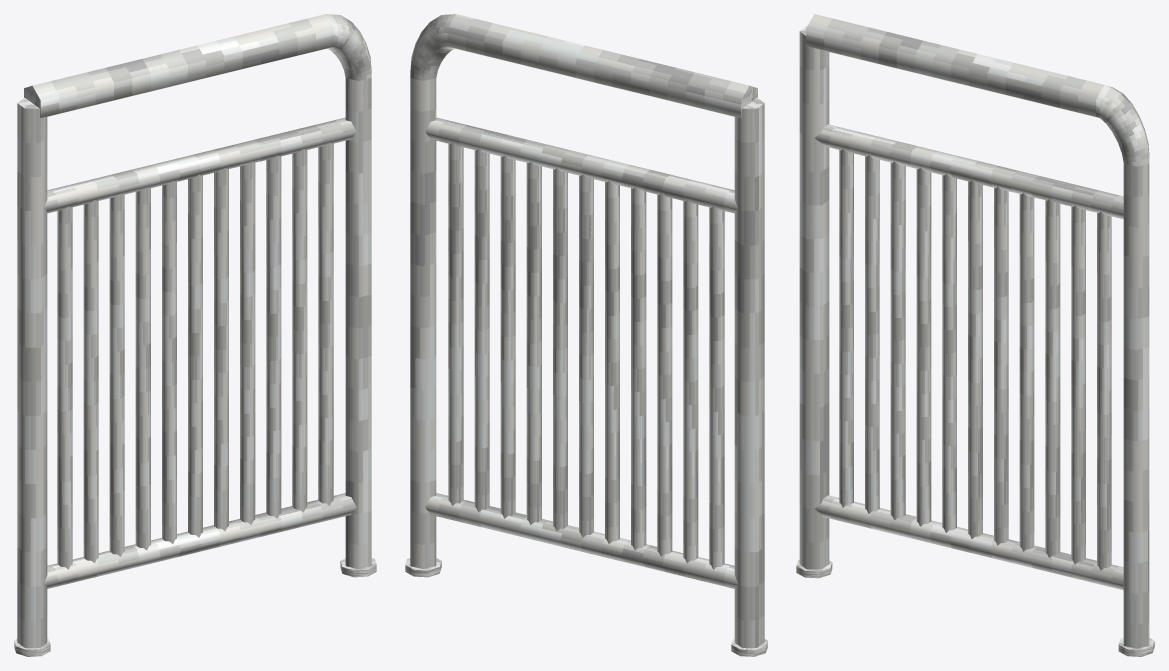
Rendered from endr.obj.
3 renders of one model, left to right at view 1: azimuth 30°, elevation 25°; view 2: azimuth 150°, elevation 25°; view 3: azimuth 330°, elevation 25°, orthographic.
Visible parts, largest first — view 1: 贝塞尔曲线.002, 贝塞尔曲线.036, 贝塞尔曲线.034, 贝塞尔曲线.033, 贝塞尔曲线.035, 贝塞尔曲线.025, 贝塞尔曲线.026, 贝塞尔曲线.023, 贝塞尔曲线.027, 贝塞尔曲线.028, 贝塞尔曲线.024, 贝塞尔曲线.029 (+5 smaller); view 2: 贝塞尔曲线.002, 贝塞尔曲线.036, 贝塞尔曲线.034, 贝塞尔曲线.033, 贝塞尔曲线.035, 贝塞尔曲线.025, 贝塞尔曲线.026, 贝塞尔曲线.023, 贝塞尔曲线.027, 贝塞尔曲线.028, 贝塞尔曲线.024, 贝塞尔曲线.029 (+5 smaller); view 3: 贝塞尔曲线.002, 贝塞尔曲线.036, 贝塞尔曲线.034, 贝塞尔曲线.033, 贝塞尔曲线.035, 贝塞尔曲线.029, 贝塞尔曲线.028, 贝塞尔曲线.023, 贝塞尔曲线.022, 贝塞尔曲线.021, 贝塞尔曲线.027, 贝塞尔曲线.025 (+5 smaller).
Part boxes in pixels (<box>): 贝塞尔曲线.002: <box>17,98,47,647</box>; 贝塞尔曲线.036: <box>345,78,371,569</box>; 贝塞尔曲线.034: <box>24,14,334,117</box>; 贝塞尔曲线.033: <box>44,117,356,213</box>; 贝塞尔曲线.035: <box>43,493,356,588</box>; 贝塞尔曲线.025: <box>57,206,72,569</box>; 贝塞尔曲线.026: <box>318,142,333,505</box>; 贝塞尔曲线.023: <box>109,194,124,556</box>; 贝塞尔曲线.027: <box>292,149,307,512</box>; 贝塞尔曲线.028: <box>266,155,281,518</box>; 贝塞尔曲线.024: <box>83,200,98,563</box>; 贝塞尔曲线.029: <box>240,162,255,524</box>; 贝塞尔曲线.002: <box>734,98,764,647</box>; 贝塞尔曲线.036: <box>410,78,436,569</box>; 贝塞尔曲线.034: <box>447,14,757,117</box>; 贝塞尔曲线.033: <box>425,117,737,213</box>; 贝塞尔曲线.035: <box>425,493,738,588</box>; 贝塞尔曲线.025: <box>709,206,724,569</box>; 贝塞尔曲线.026: <box>448,142,463,505</box>; 贝塞尔曲线.023: <box>657,194,672,556</box>; 贝塞尔曲线.027: <box>474,149,489,512</box>; 贝塞尔曲线.028: <box>500,155,515,518</box>; 贝塞尔曲线.024: <box>683,200,698,563</box>; 贝塞尔曲线.029: <box>526,162,541,524</box>; 贝塞尔曲线.002: <box>799,25,829,569</box>; 贝塞尔曲线.036: <box>1123,163,1149,648</box>; 贝塞尔曲线.034: <box>806,14,1103,117</box>; 贝塞尔曲线.033: <box>814,124,1123,219</box>; 贝塞尔曲线.035: <box>814,495,1123,590</box>; 贝塞尔曲线.029: <box>1019,193,1034,551</box>; 贝塞尔曲线.028: <box>1045,199,1060,557</box>; 贝塞尔曲线.023: <box>890,161,905,520</box>; 贝塞尔曲线.022: <box>916,168,931,526</box>; 贝塞尔曲线.021: <box>942,174,956,532</box>; 贝塞尔曲线.027: <box>1071,205,1085,564</box>; 贝塞尔曲线.025: <box>839,149,853,507</box>.
Size of the model in its own units: 1.1 by 1.65 by 0.1.
2 materials, 2 textured.
